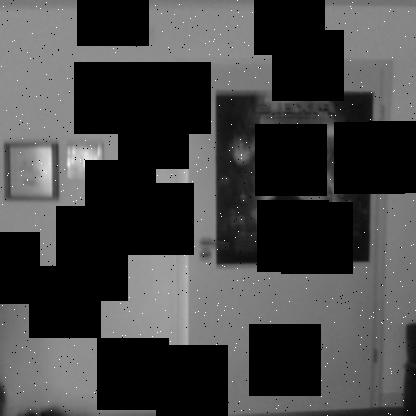Porte: (172, 58, 397, 415)
